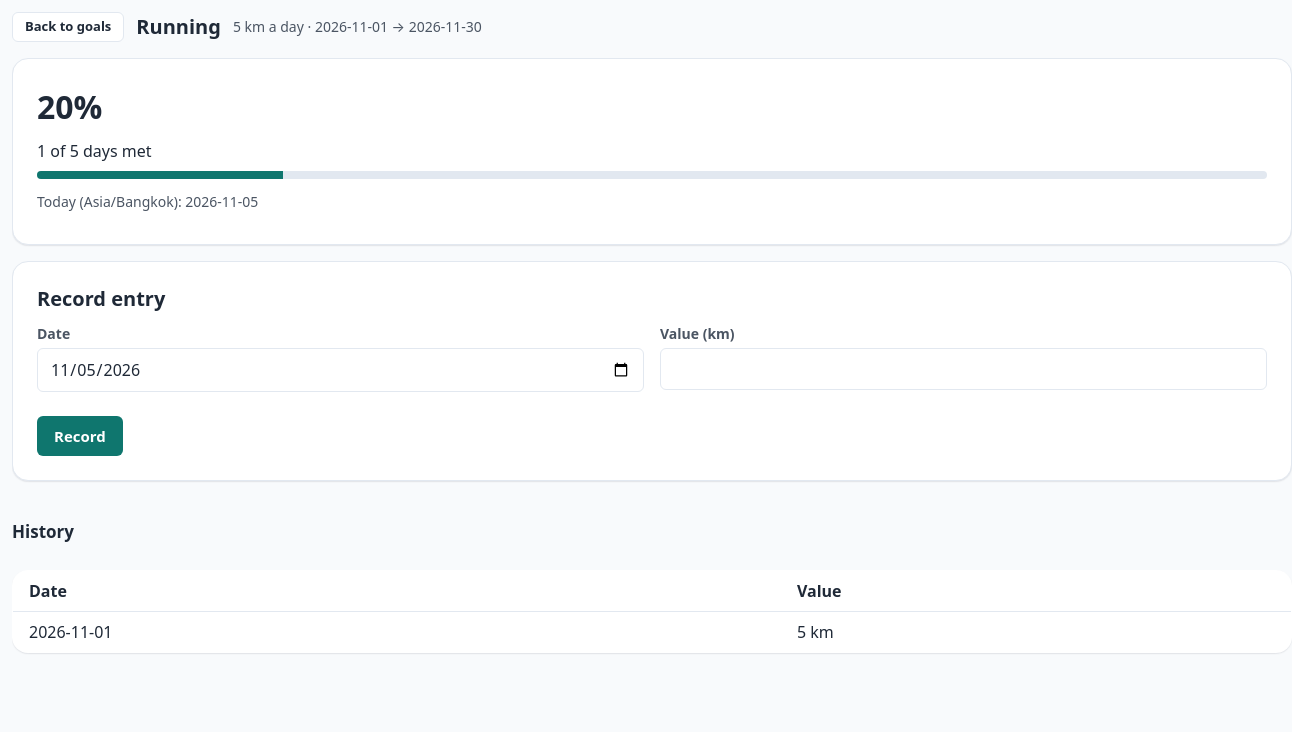
Test: AC-04.20 record flow › TEST-04.20a prefills today, sends a numeric value, inserts by date and refreshes progress from the server
The image size is (1292, 732).
Expected: the text "20%" is shown, [37, 84, 102, 128]
In the date field labelled "Date": (340, 370) [37, 348, 644, 392], type "2026-11-03"
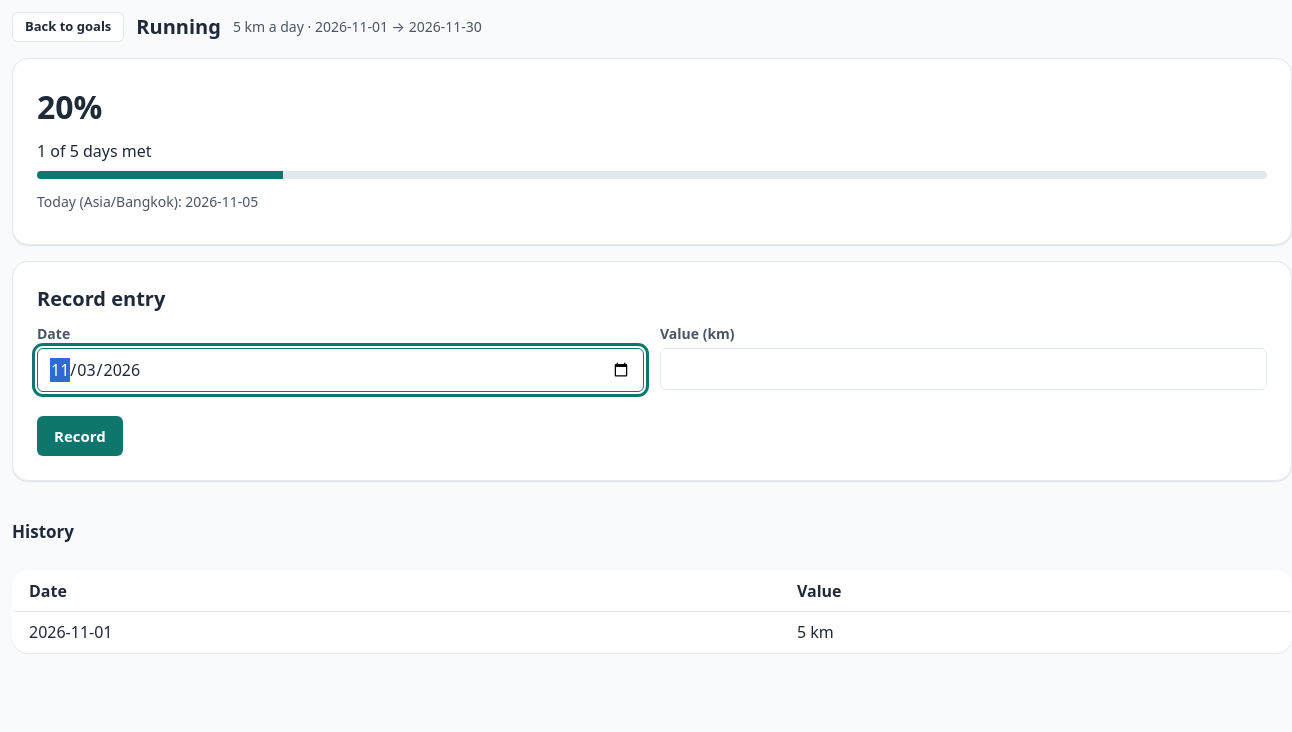
In the number field labelled "Value (km)": (964, 368) [660, 348, 1267, 390], type "7.25"
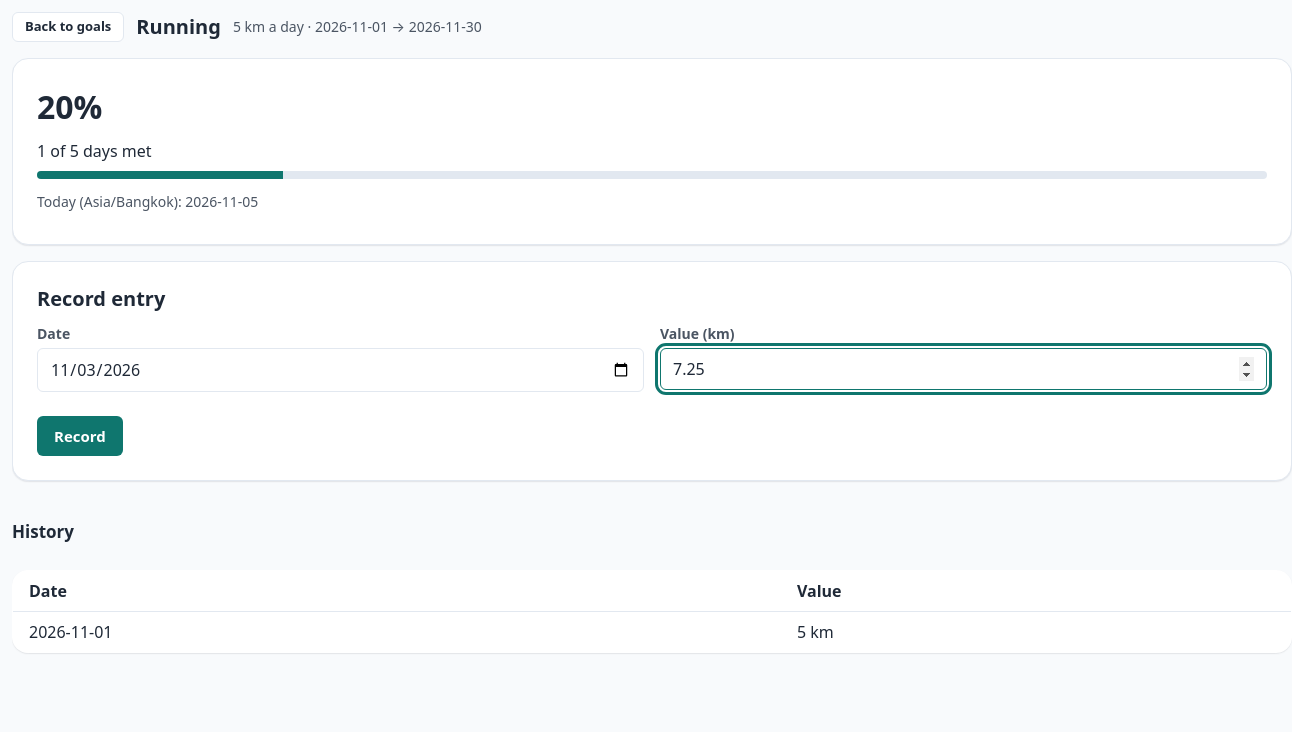
Click the button "Record": (80, 436) [37, 416, 123, 456]
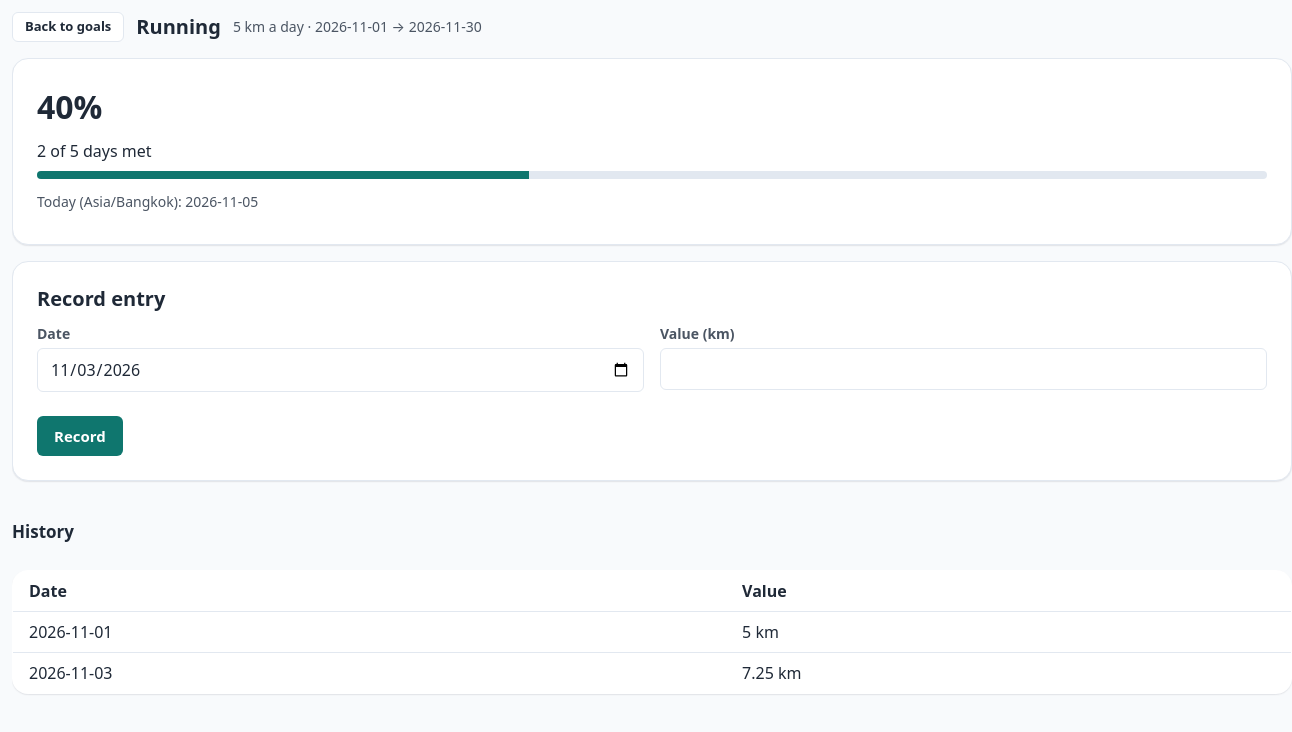
Now the text "40%" is shown, box [37, 84, 102, 128]
